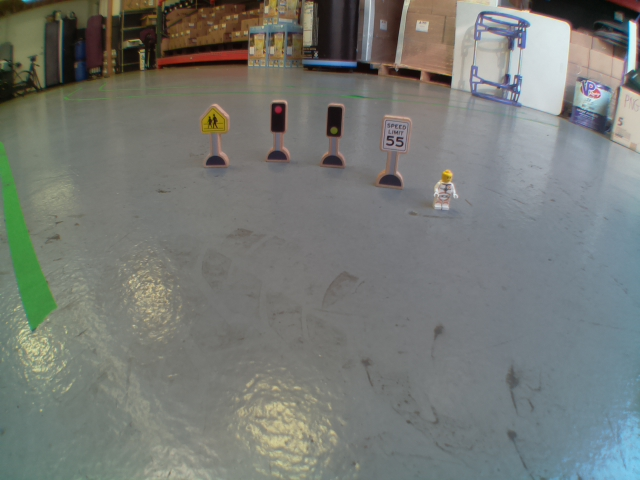Green Traffic Light: (325, 103, 346, 139)
Red Traffic Light: (266, 100, 287, 135)
Speed Limit 55: (378, 114, 410, 155)
YIELD: (197, 104, 230, 139)
person: (430, 167, 460, 212)
